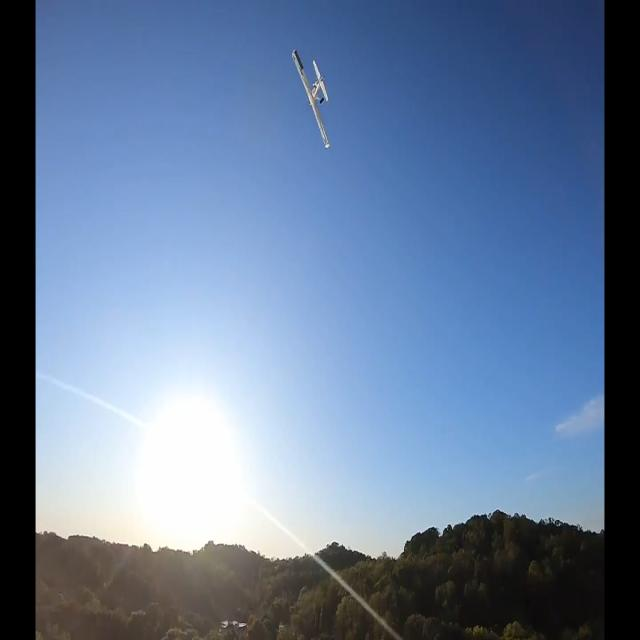iha: (292, 15, 330, 55)
